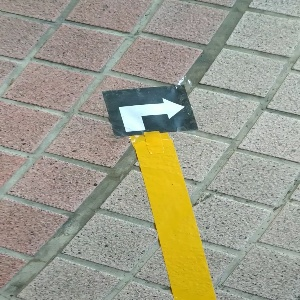right: (102, 84, 197, 134)
